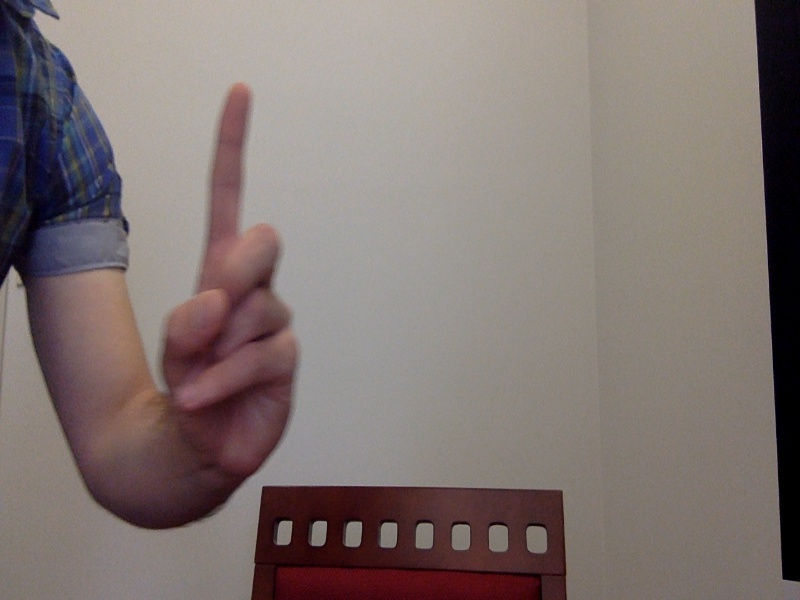1-hand: (157, 79, 309, 479)
